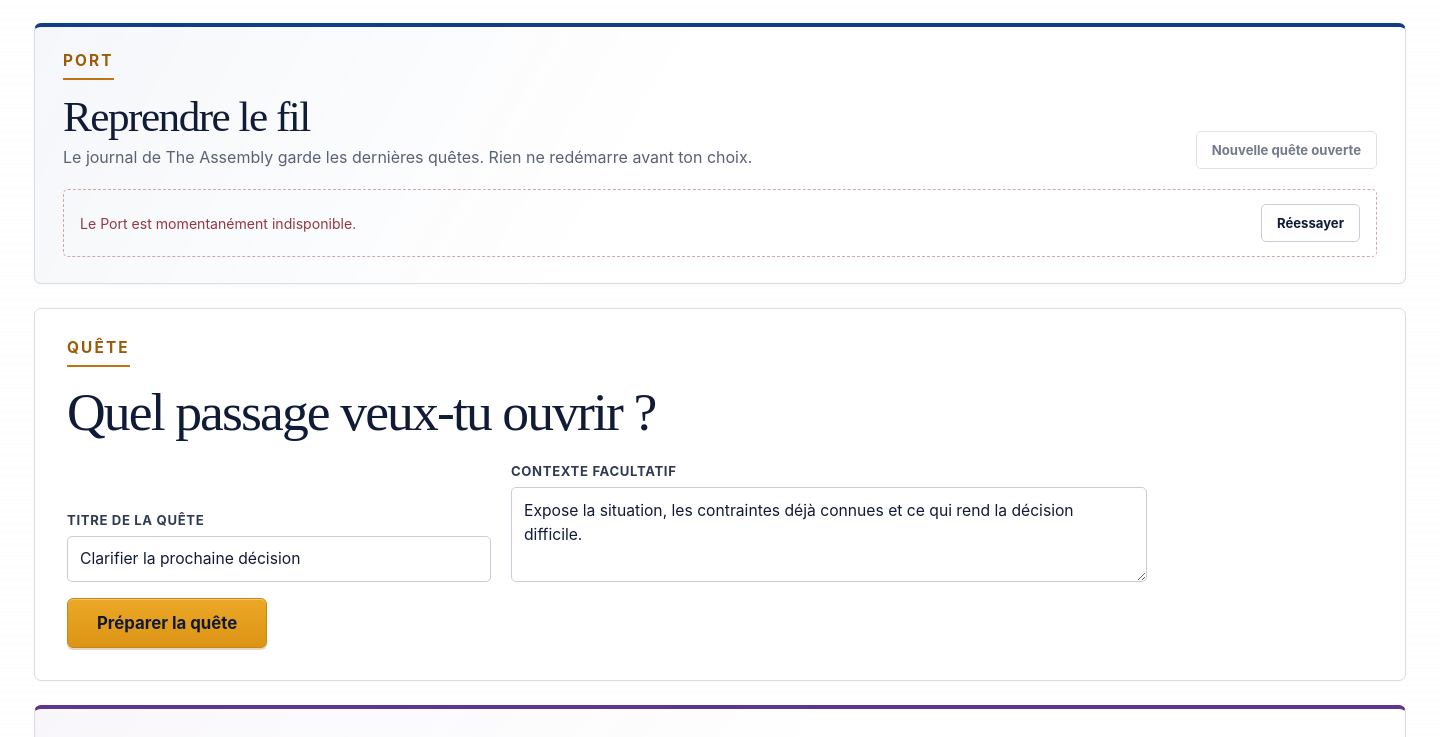
Test case: Naetia Council shell › lets the human replace a recommended member before convening
Click the button "Préparer la quête" at (167, 623), box 67,598 -> 267,648
(page scrolled)
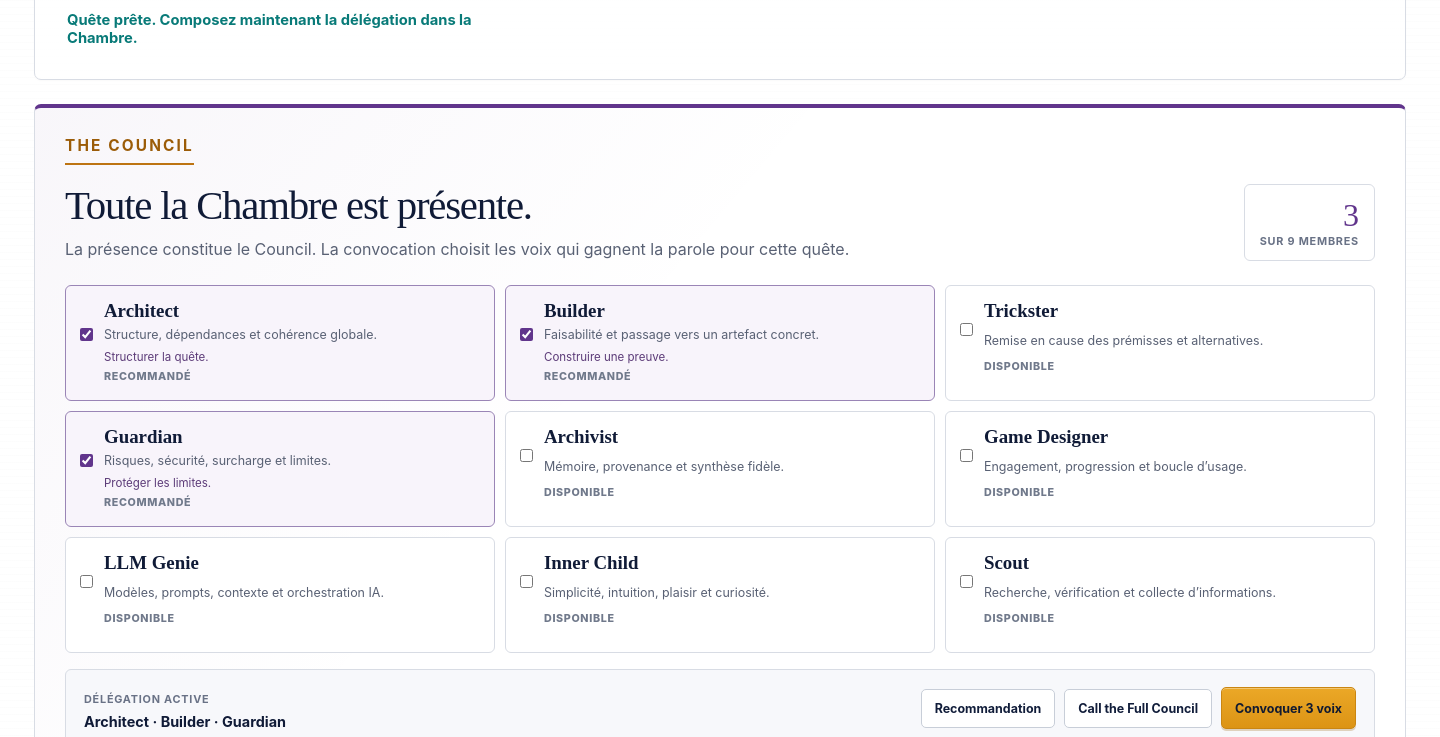
Check: the button "Convoquer 3 voix" is shown, box 1221,687 -> 1356,729
Click the checkbox labelled "Builder" at (526, 334), box 520,303 -> 533,366
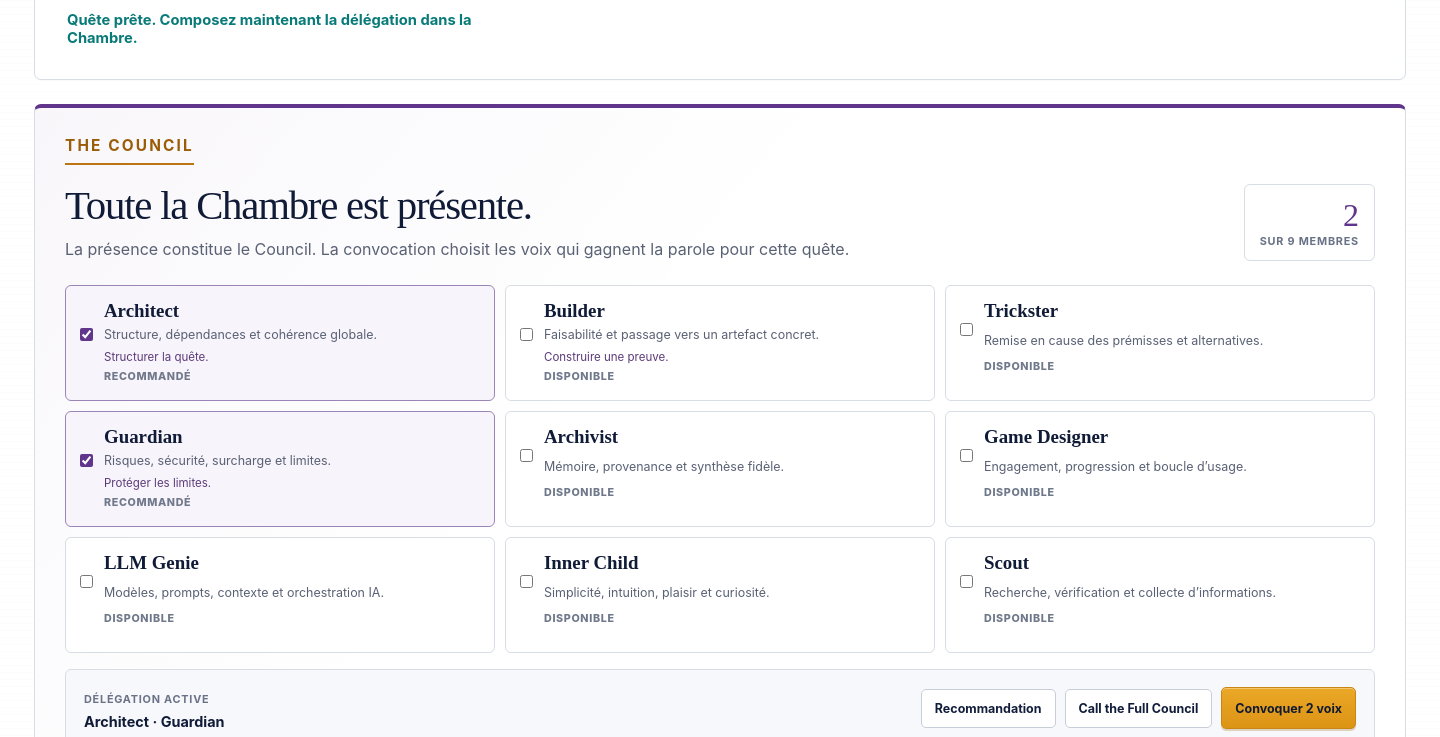
Click the checkbox labelled "Scout" at (966, 581), box 960,555 -> 973,608
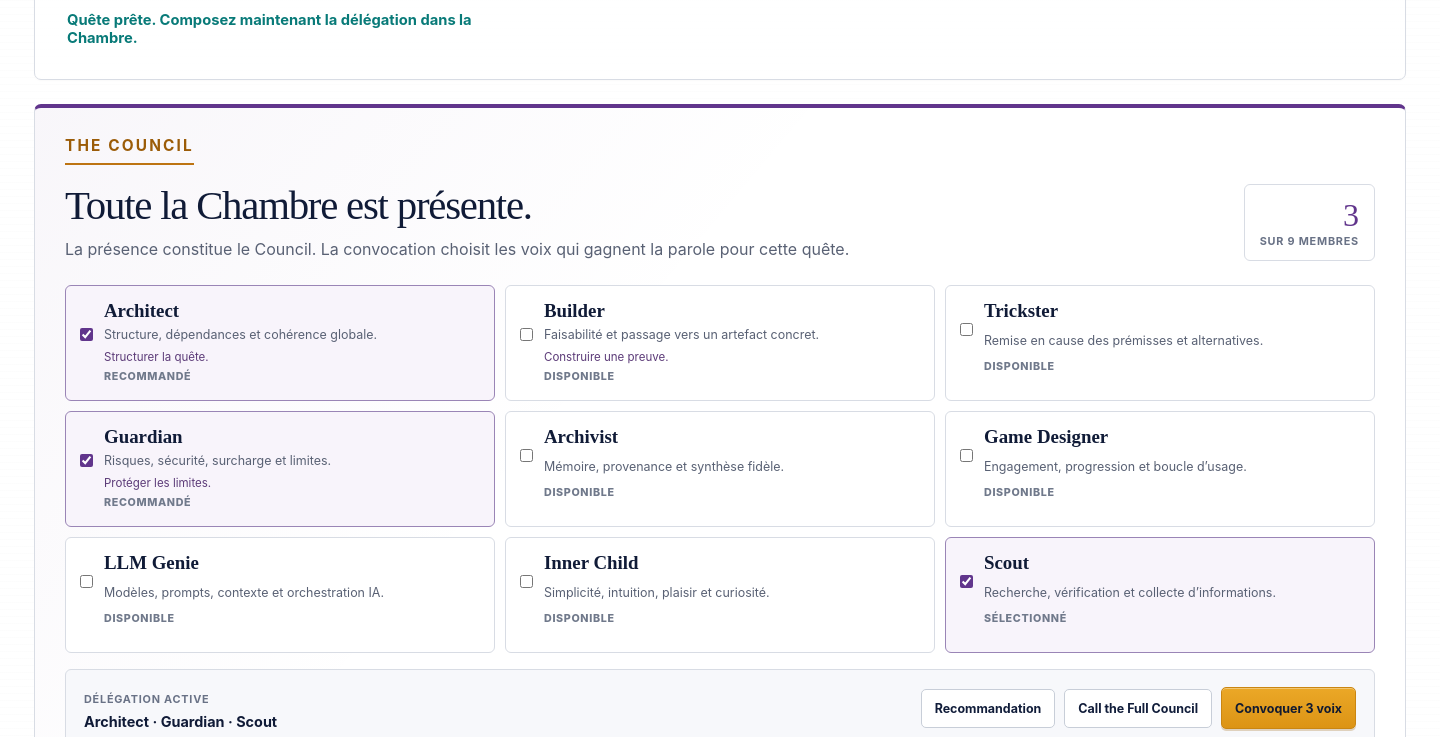
Click the button "Convoquer 3 voix" at (1289, 708), box 1221,687 -> 1356,729
(page scrolled)
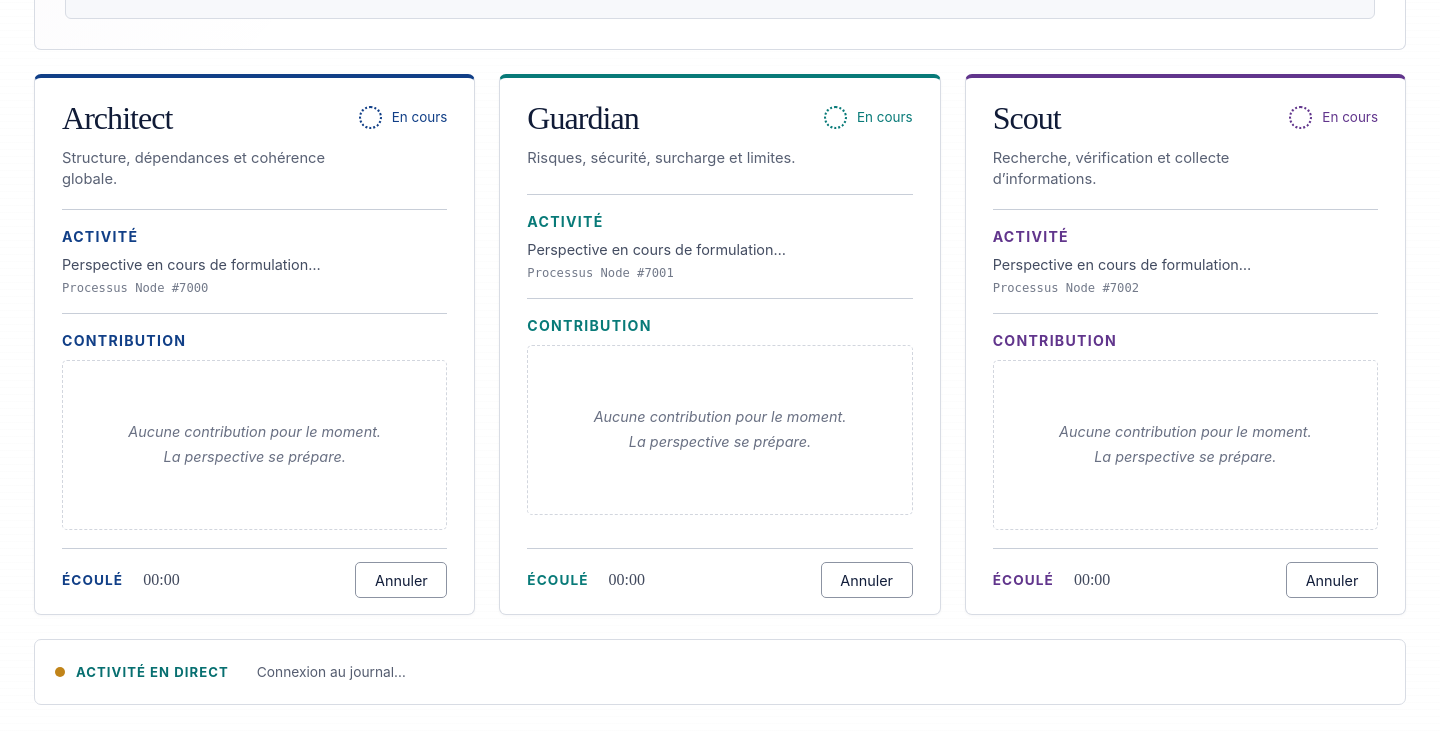
Check: the element "Builder" is not shown
Check: the element "Scout" is shown, box 965,74 -> 1406,615
